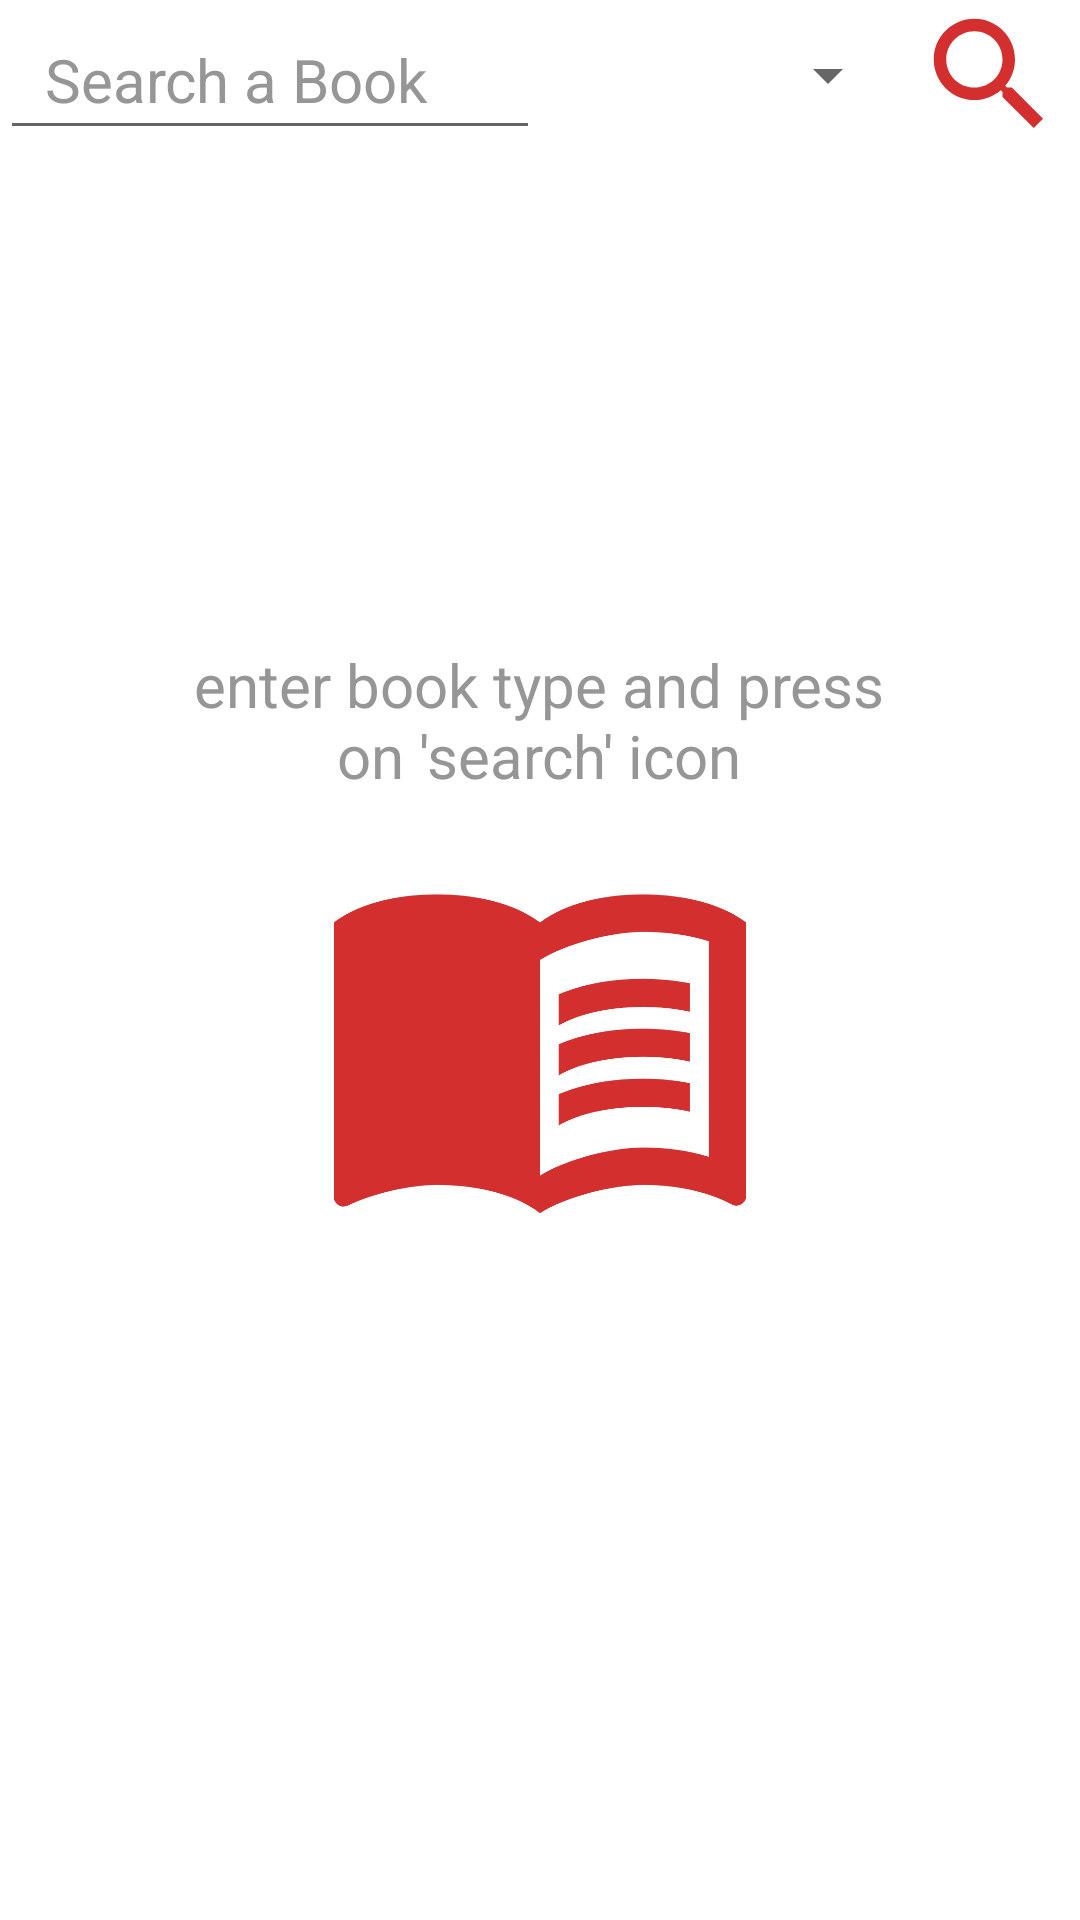

Icons on this 1080px×1920px Android screen, each with the point to tap as (x=x, y=y):
Search Icon: (x=988, y=73)
